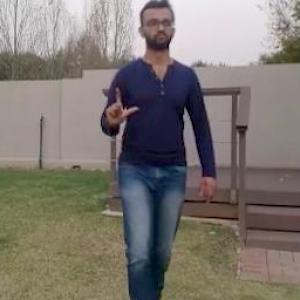land_hand: (100, 81, 142, 132)
